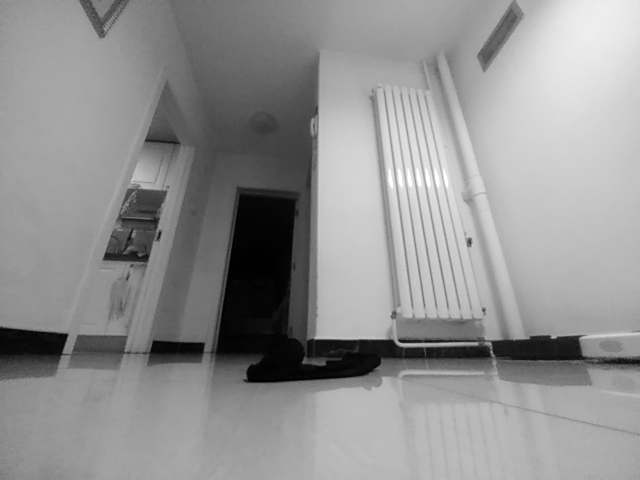others: (245, 335, 384, 381)
